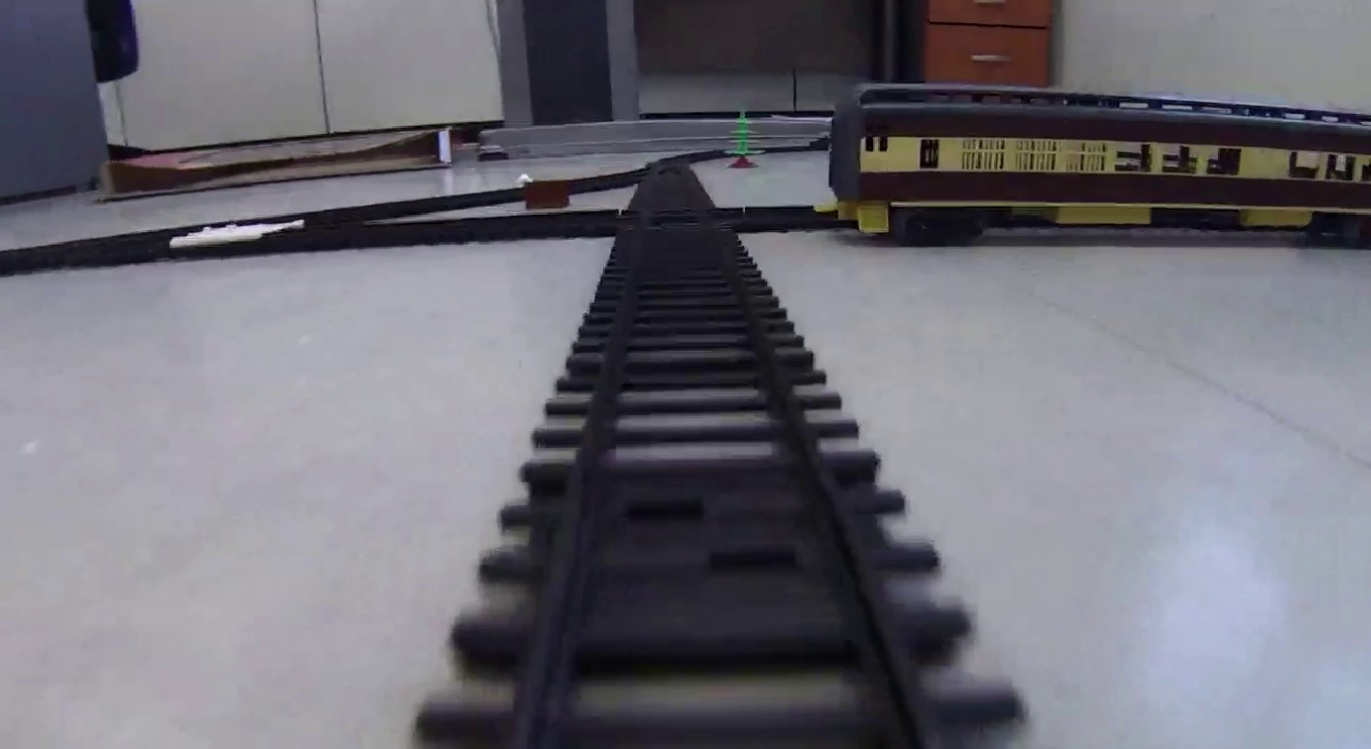box: (523, 180, 573, 210)
tree: (721, 110, 764, 170)
